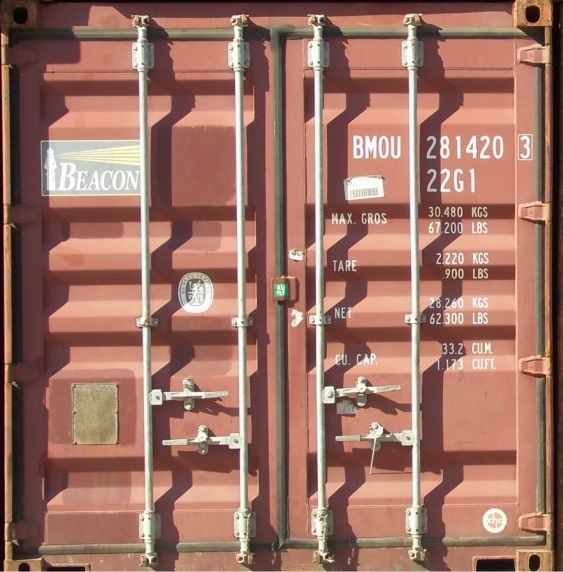container_door: (12, 4, 544, 562)
